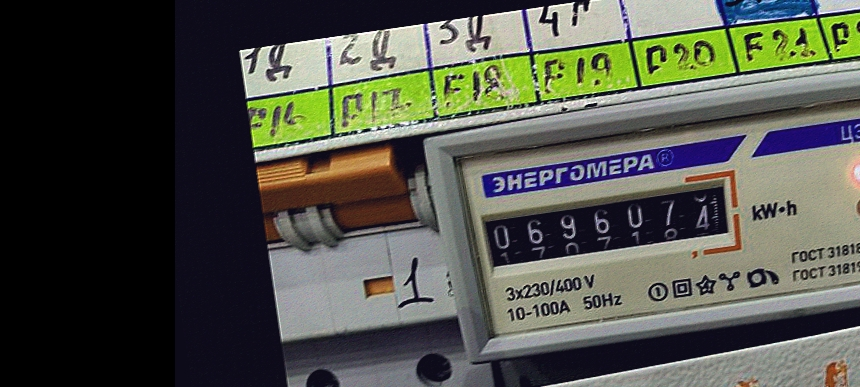0: (490, 219, 515, 250), (625, 197, 647, 228), (526, 215, 546, 243)
4: (693, 201, 713, 231)
6: (591, 202, 613, 234)
7: (658, 194, 680, 225)
9: (558, 209, 580, 239)
screen: (466, 164, 749, 286)
